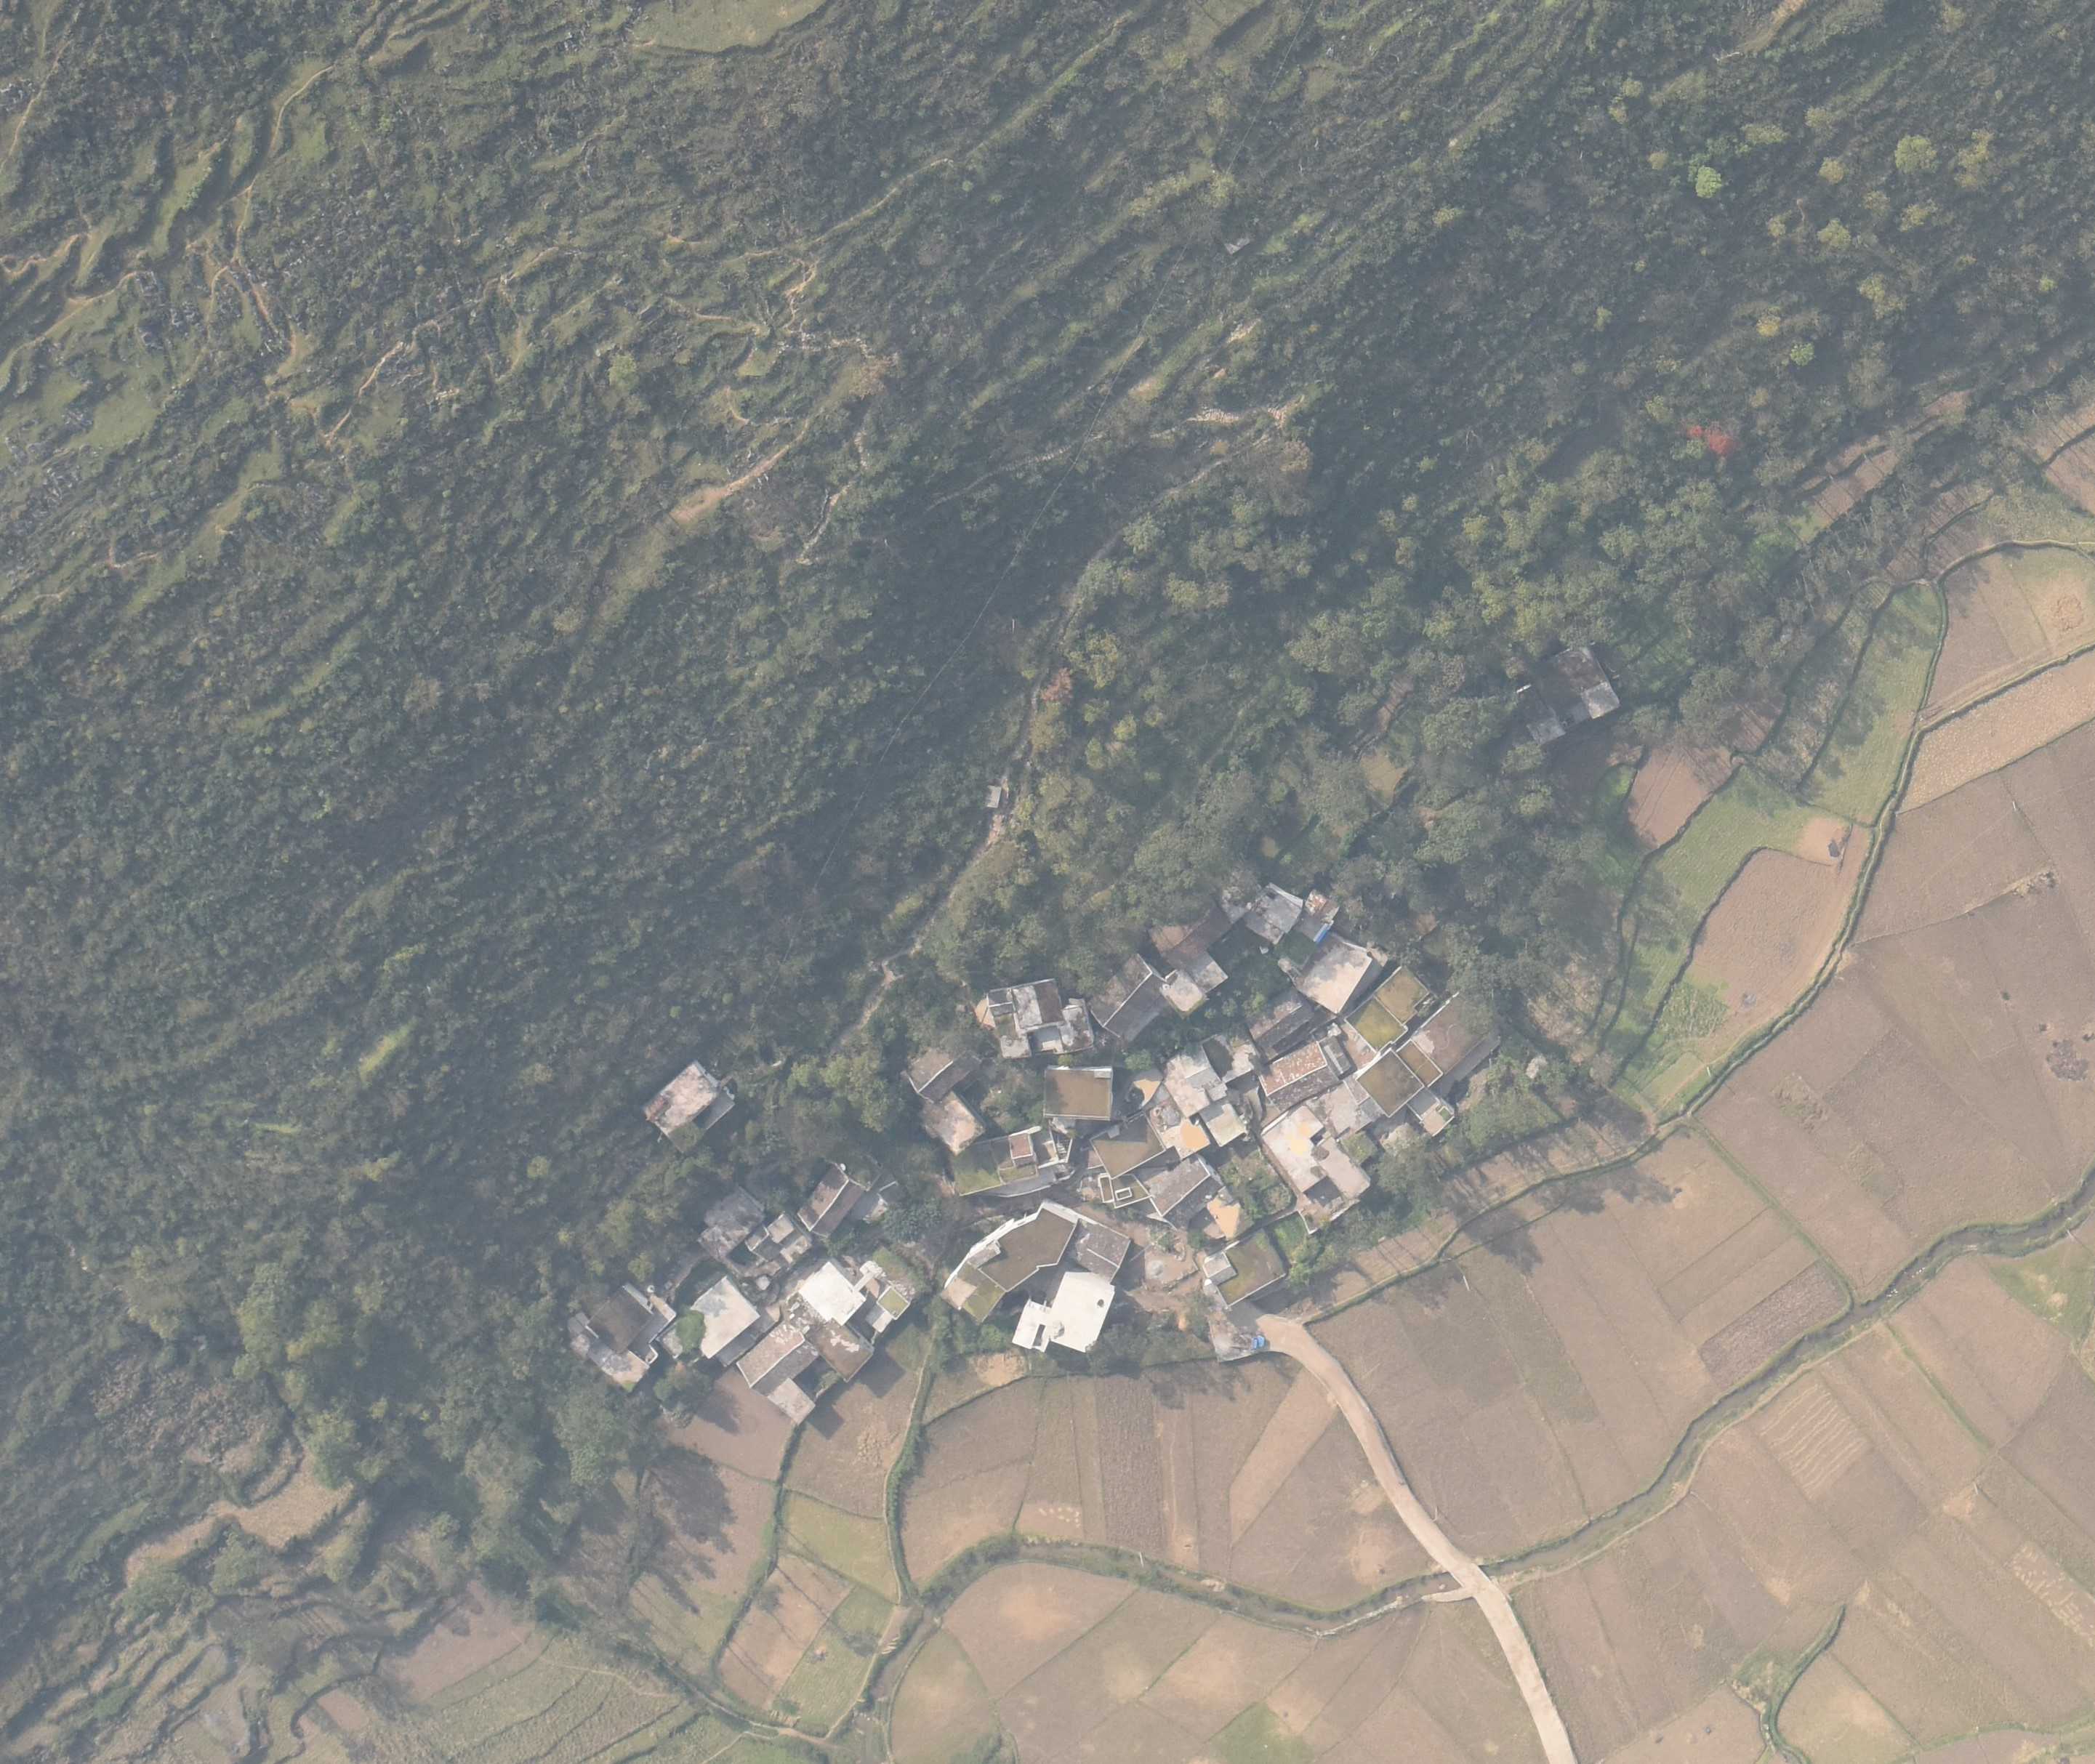building: (1508, 639, 1620, 747), (571, 1280, 677, 1392), (966, 1195, 1079, 1291), (1159, 1019, 1258, 1119), (640, 1058, 736, 1155), (1011, 1265, 1115, 1353), (987, 977, 1094, 1062), (1146, 889, 1232, 972), (1411, 989, 1492, 1077), (1202, 1225, 1287, 1305), (1087, 954, 1166, 1039), (736, 1317, 819, 1398), (1295, 932, 1374, 1015), (684, 1274, 760, 1361), (1260, 1101, 1328, 1193), (1258, 1039, 1337, 1112), (1147, 1153, 1222, 1230), (696, 1185, 767, 1261), (901, 1036, 981, 1103), (797, 1161, 866, 1237), (1089, 1111, 1166, 1179), (1354, 1047, 1426, 1117), (797, 1259, 867, 1328), (1061, 1217, 1133, 1285), (915, 1091, 985, 1159), (1243, 985, 1314, 1052), (808, 1315, 874, 1385), (1146, 1093, 1212, 1159), (1041, 1063, 1112, 1121), (990, 1130, 1059, 1188), (1312, 1136, 1370, 1203), (1342, 995, 1408, 1052), (1372, 963, 1430, 1026), (1245, 882, 1303, 945), (1158, 965, 1209, 1017), (768, 1376, 819, 1427), (1200, 1095, 1247, 1147), (863, 1281, 911, 1332), (1395, 1039, 1443, 1090), (1298, 888, 1340, 943), (744, 1225, 775, 1263), (766, 1212, 797, 1246)
vehicle: (1230, 1332, 1265, 1350)
